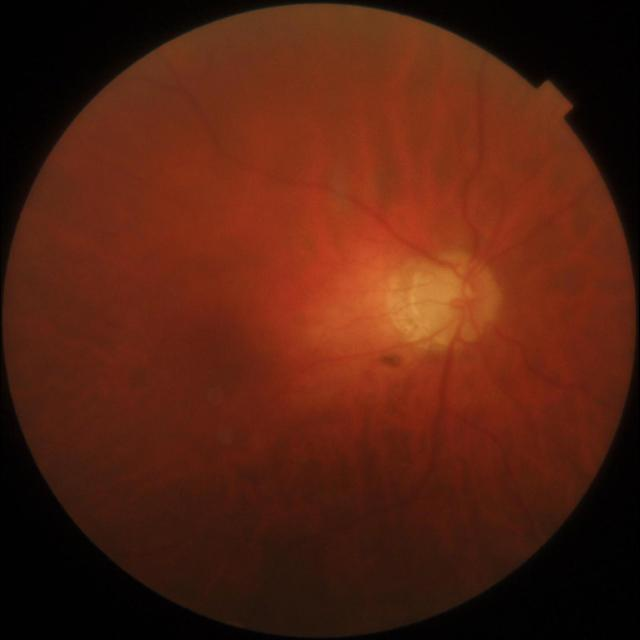OD: (414, 254, 502, 346)
